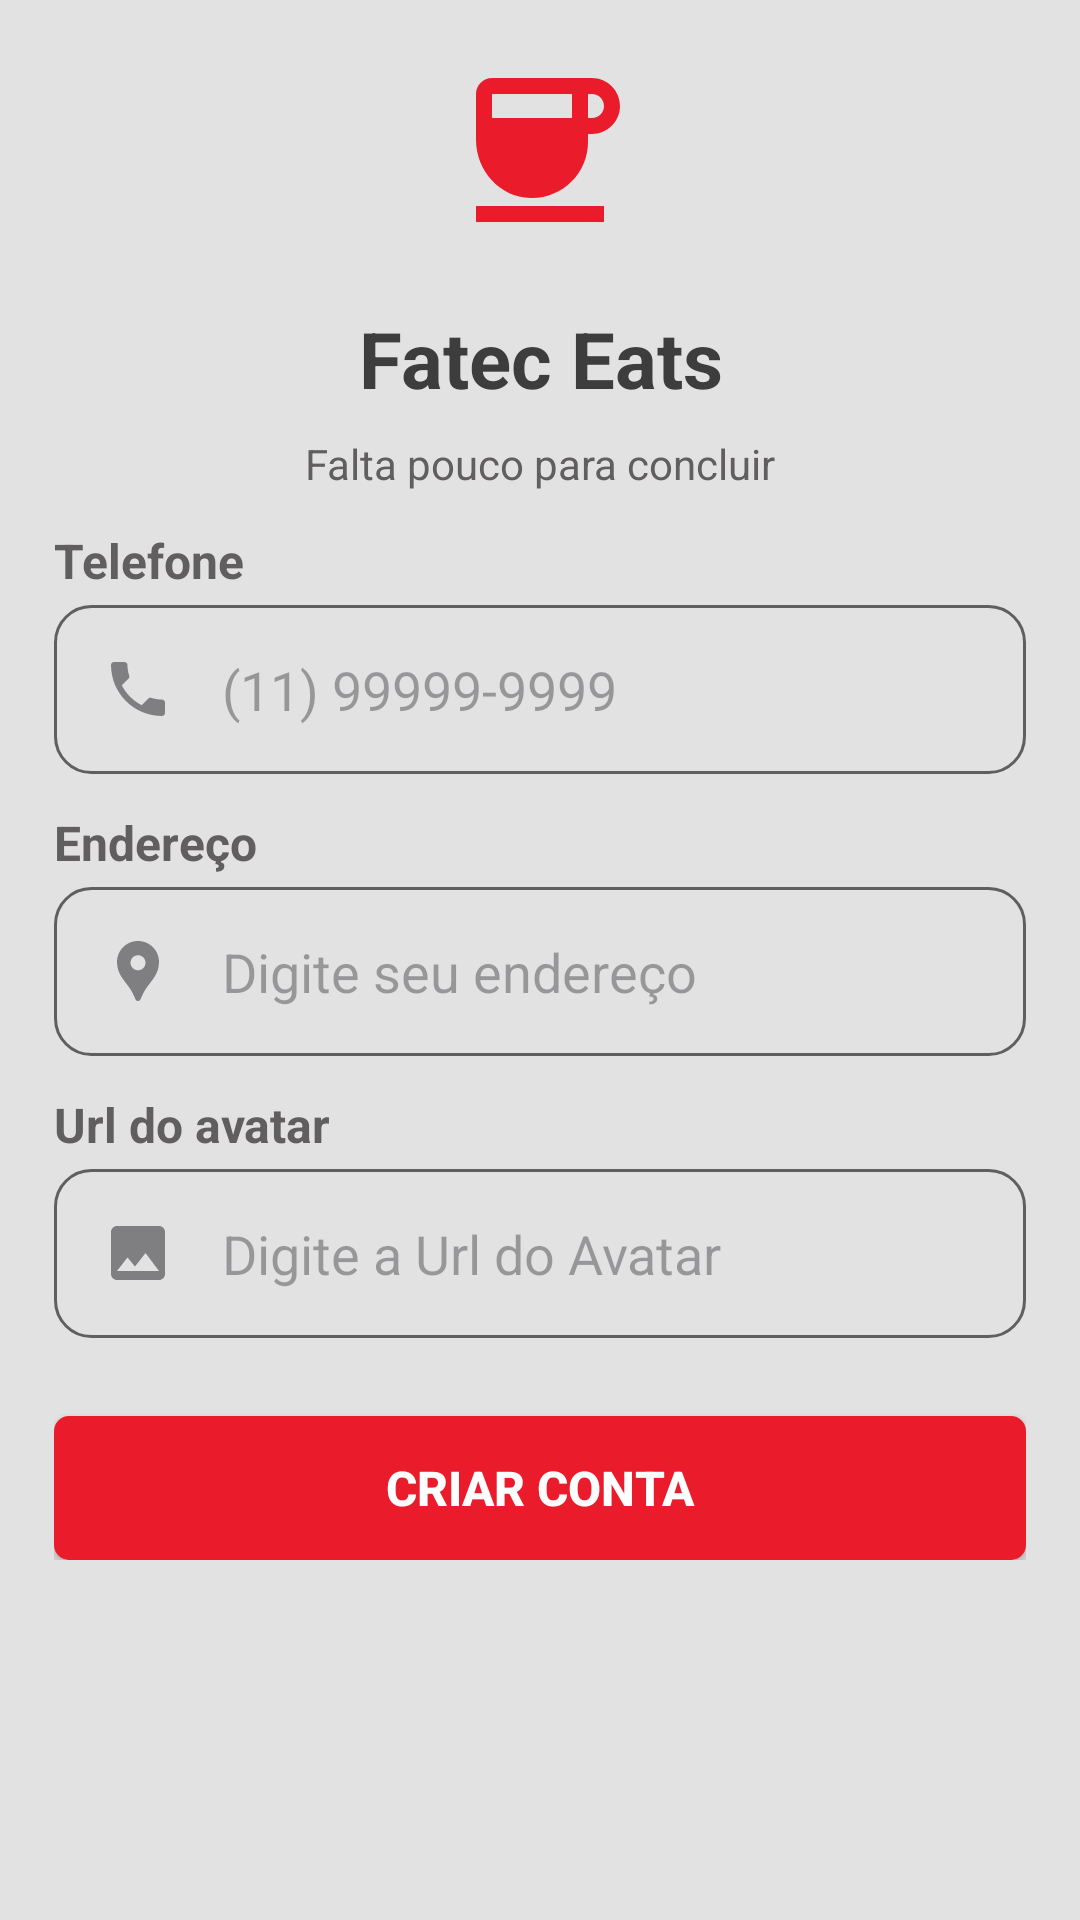

Point at icon controls on the screen. Image size 1080 × 1920, points as point (x, y).
coffee: point (548, 150)
